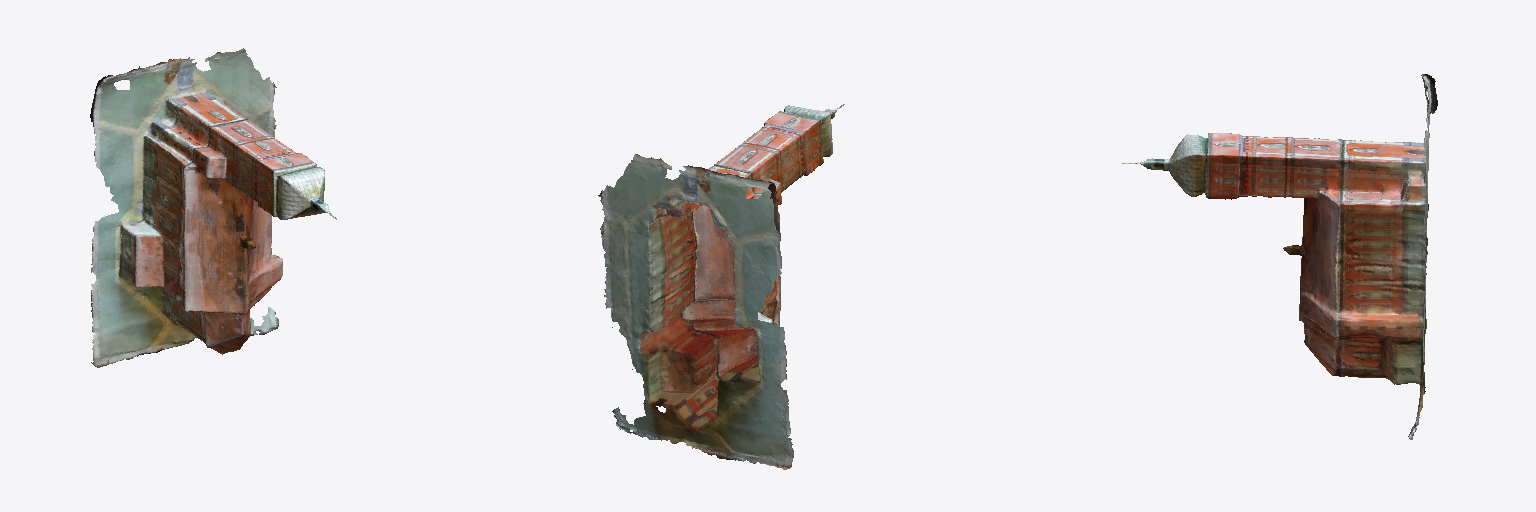
The picture shows the model from 3 angles: view 1: azimuth 30°, elevation 25°; view 2: azimuth 150°, elevation 25°; view 3: azimuth 270°, elevation 25°; orthographic projection.
Bounding box in the file's own units: 7.67 × 11.25 × 11.03.
5 materials, 4 textured.